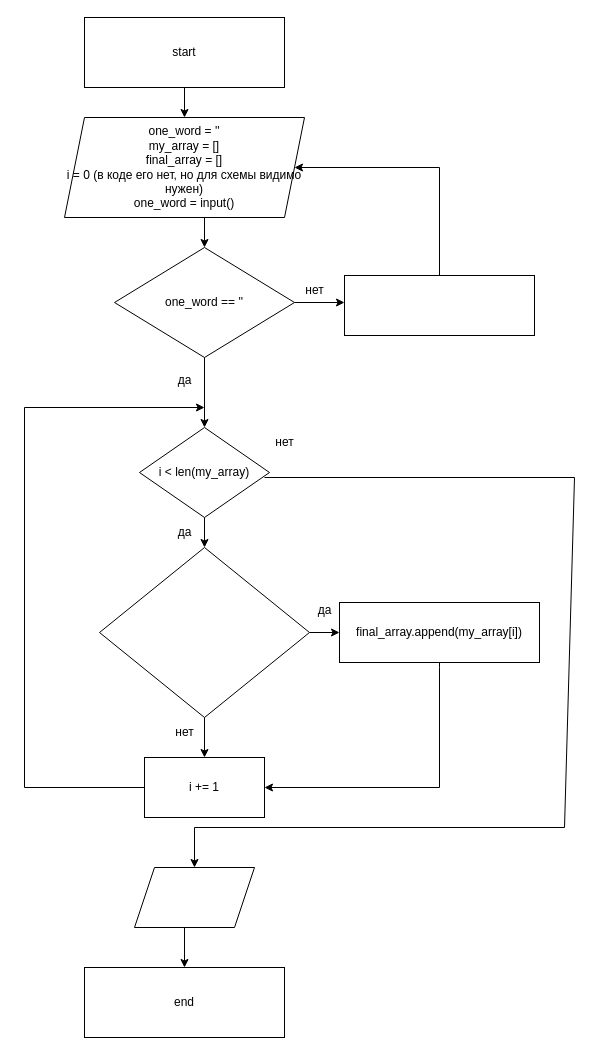
This 600x1055 diagram has some shape labels left out. The shapes that lost their labels are listed below. From the top down, each one's centre as x and y in pixels, then its label:
At point 439,305: "my_array.append(one_word)".
At point 204,632: "len(my_array[i]) <= 3".
At point 194,897: "print(по условию)".
